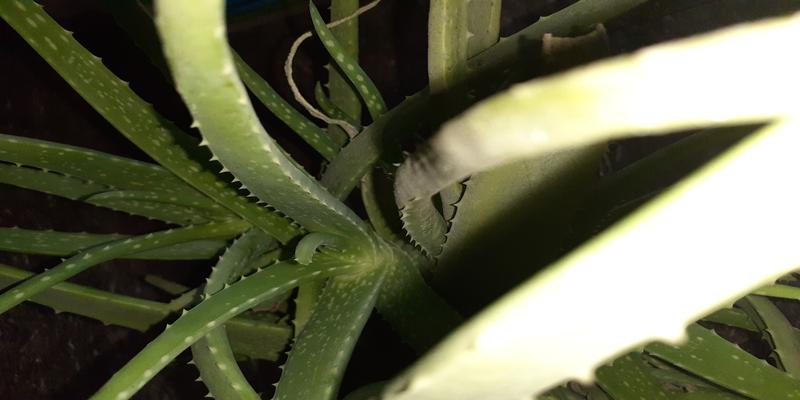Aloevera: (97, 45, 741, 379)
